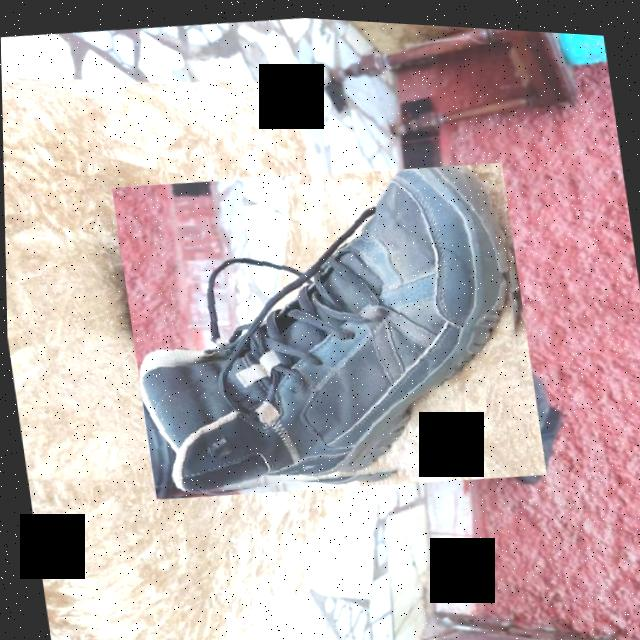shoe: (110, 138, 545, 515)
